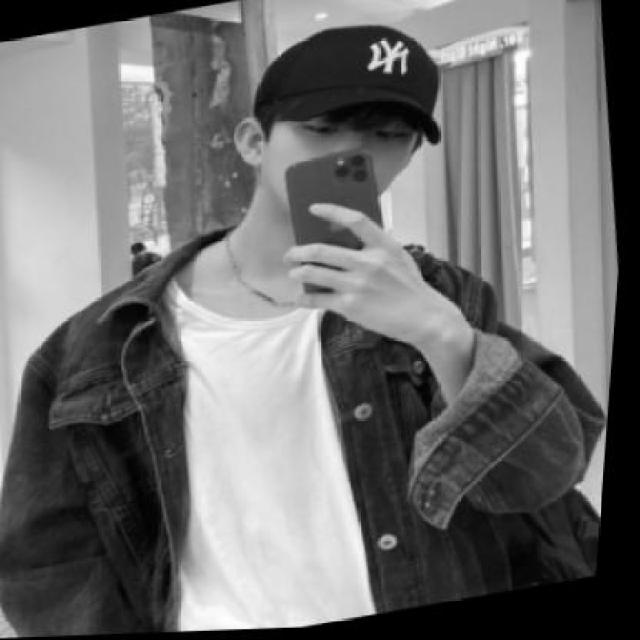hat: (239, 10, 453, 181)
